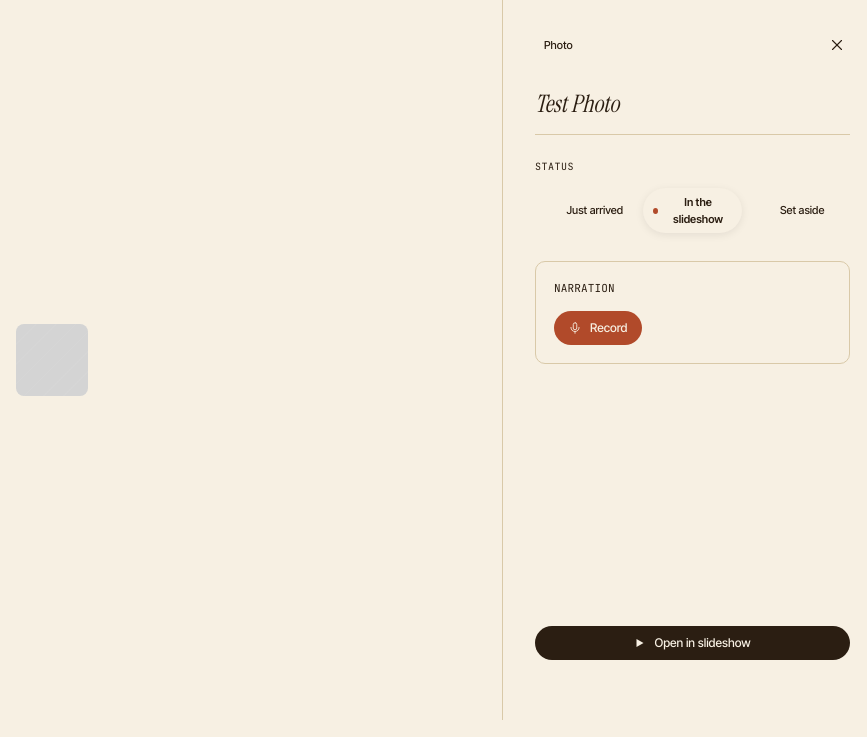
it: EntryEditor › Autosave behavior › shows "Saving…" immediately when a field changes
Replace the text in the field named "title" with "New Title" at (692, 108), box [535,82,850,135]
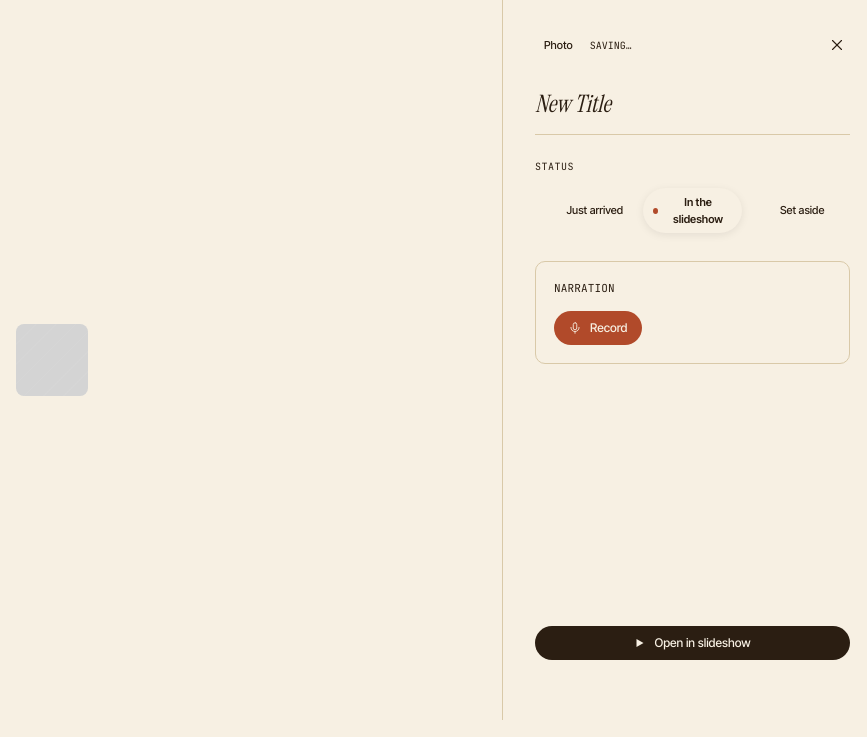
Result: the text "Saving…" is shown at [590,38,632,52]
